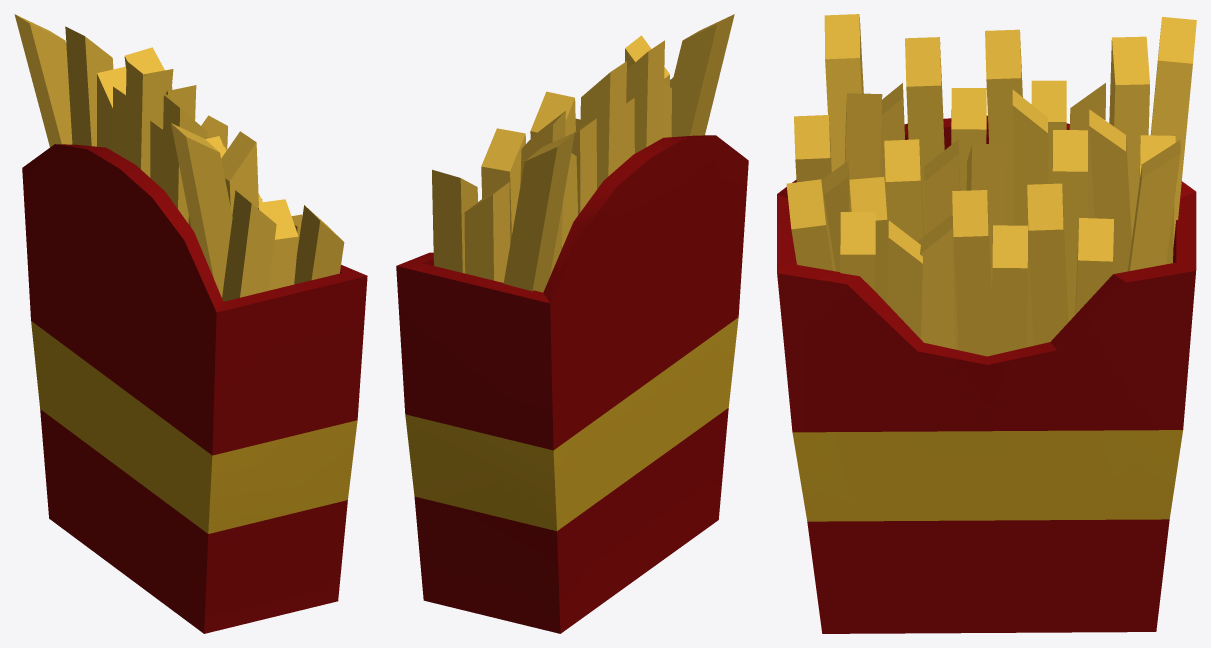
The model's file is Comida_VR07.fbx.
The picture shows the model from 3 angles, left to right: view 1: azimuth 30°, elevation 25°; view 2: azimuth 150°, elevation 25°; view 3: azimuth 270°, elevation 25°; orthographic projection. The views are drawn at different scales.
Visible parts, largest first — view 1: Patatas; view 2: Patatas; view 3: Patatas.
Part boxes in pixels (x1,y1,x2,y2): Patatas: (14, 14, 367, 633); Patatas: (396, 14, 748, 633); Patatas: (777, 14, 1196, 633).
Bounding box in the file's own units: 62.49 × 188 × 132.
